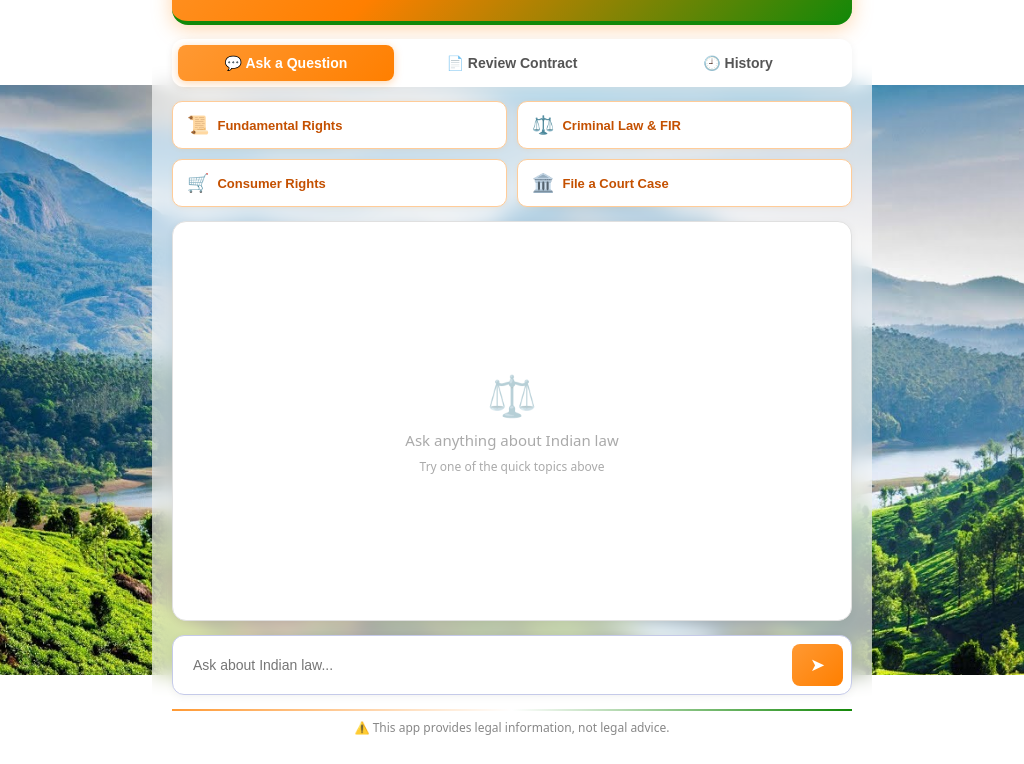
shows error when chat request fails
The width and height of the screenshot is (1024, 764).
(page scrolled)
Type "test" into the field with placeholder "Ask about Indian law...".
click(482, 665); type("test")  # box [181,644,784,686]
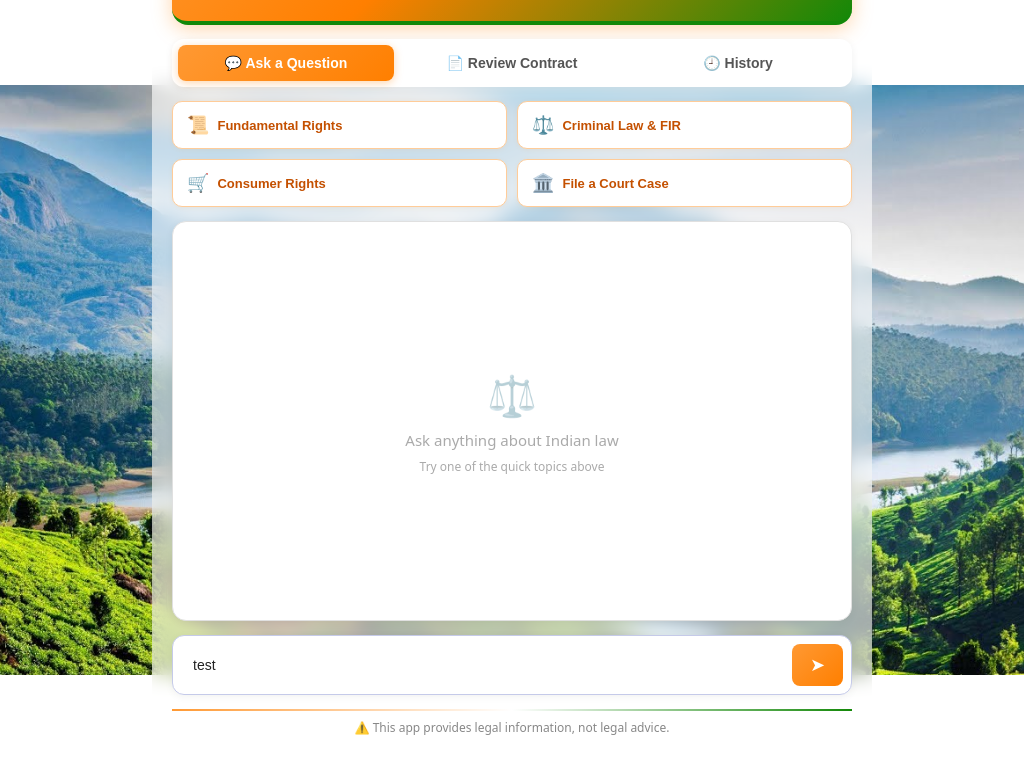
Click the button "➤".
click(817, 665)  # box [792,644,843,686]
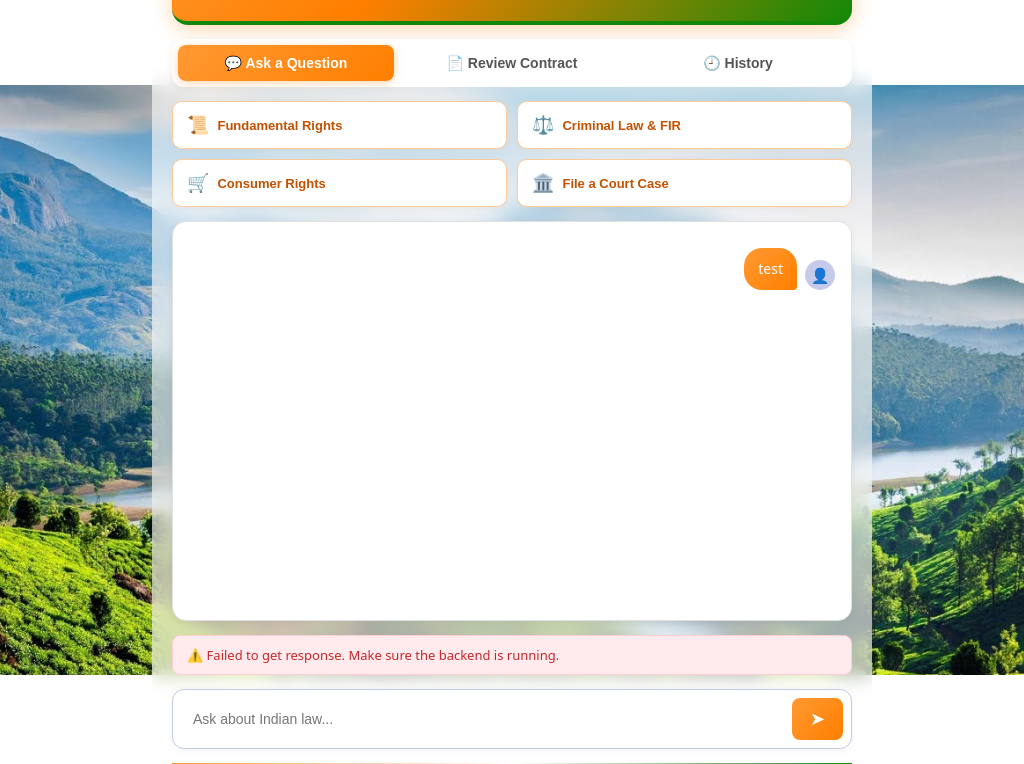
Check: the text "⚠️ Failed to get response. Make sure the backend is running." is shown, box [172,635,852,675]
